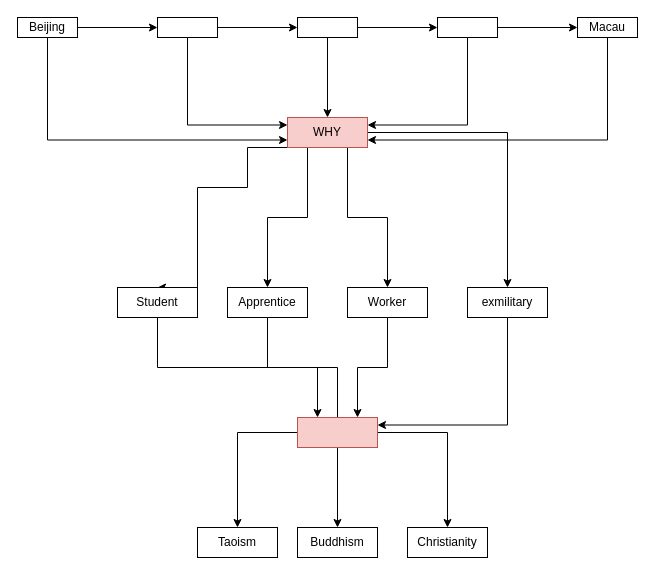
Image size: 655x575. Some labels were removed from this diagram. The box of each missing label's shape, as (x1, y1, x2, y2) in pixels:
Beliefs: (296, 416, 378, 448)
Guangzhou: (296, 16, 358, 38)
HongKong: (436, 16, 498, 38)
Nanjing: (156, 16, 218, 38)
